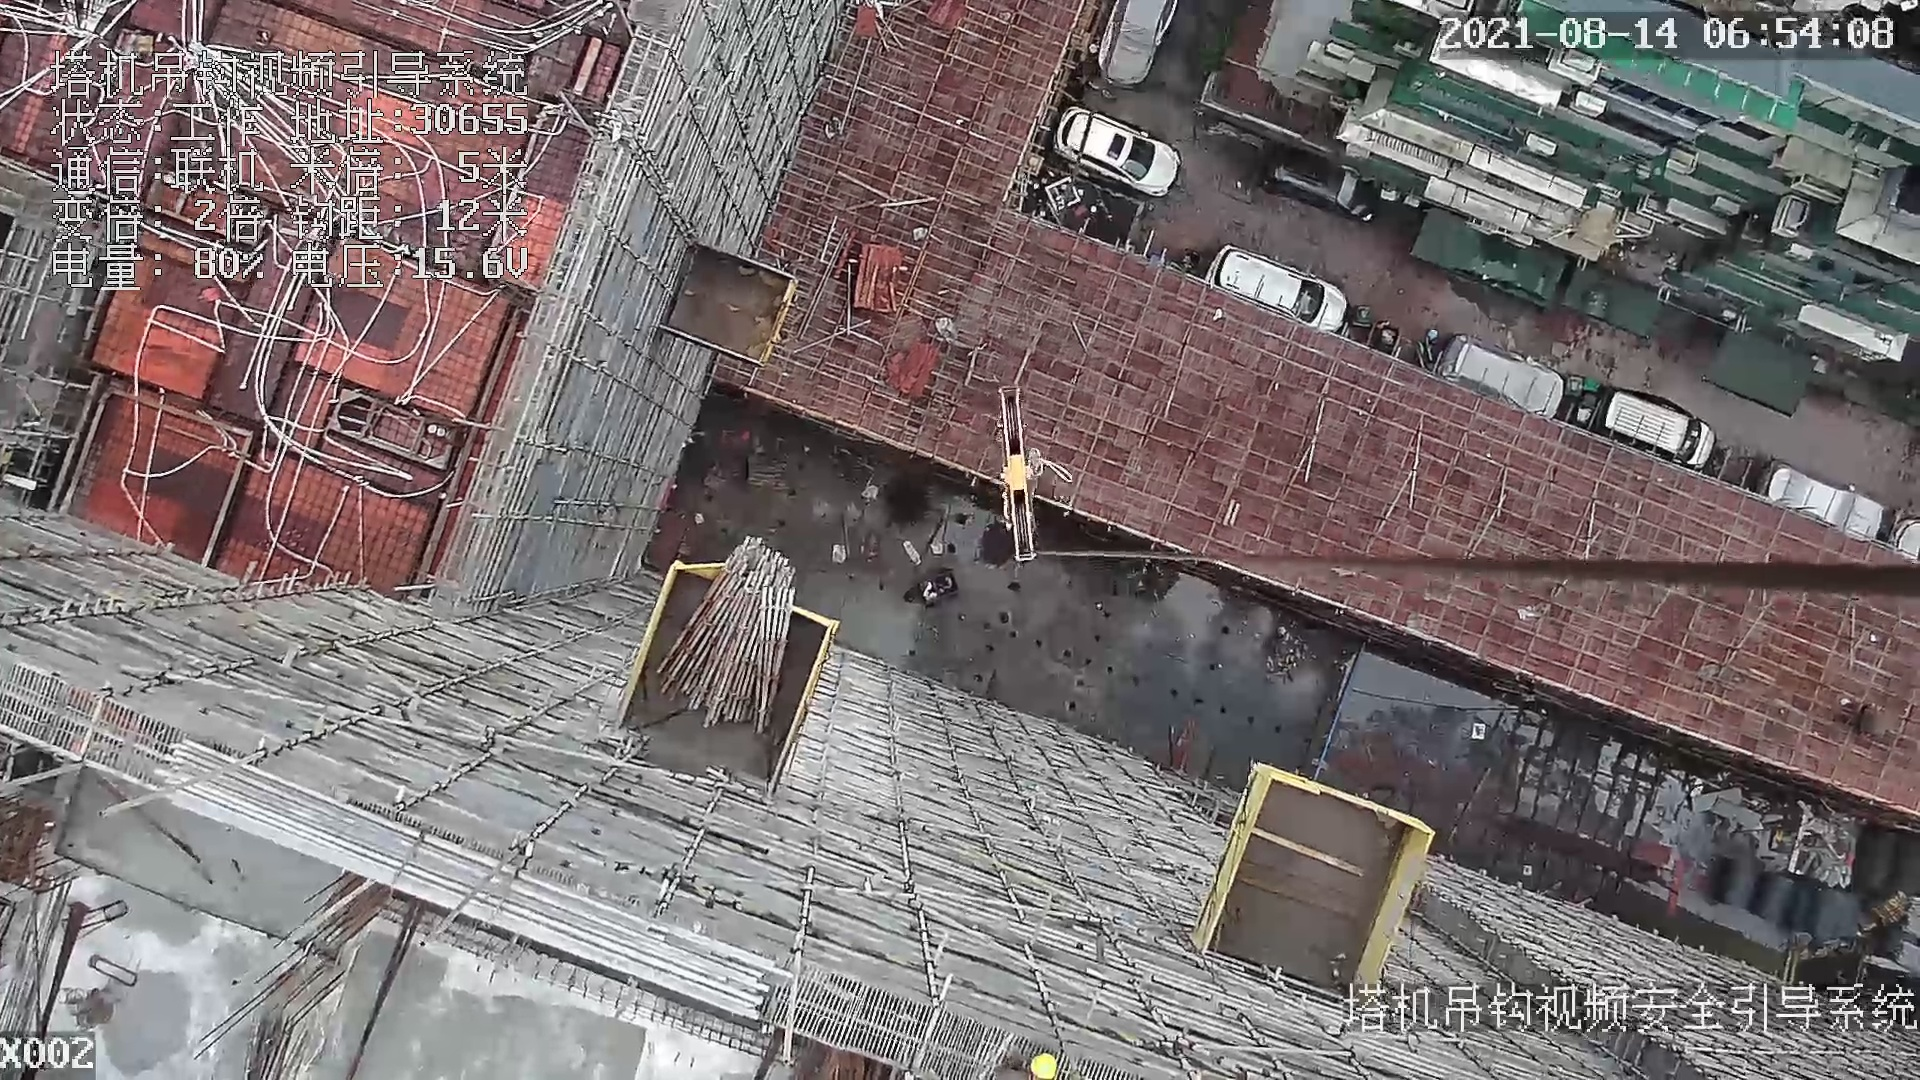helmet: (1029, 1053, 1057, 1079)
hook: (983, 383, 1060, 559)
person: (994, 1050, 1064, 1080)
rebar: (158, 743, 774, 1016)
scaffold: (655, 534, 794, 736)
